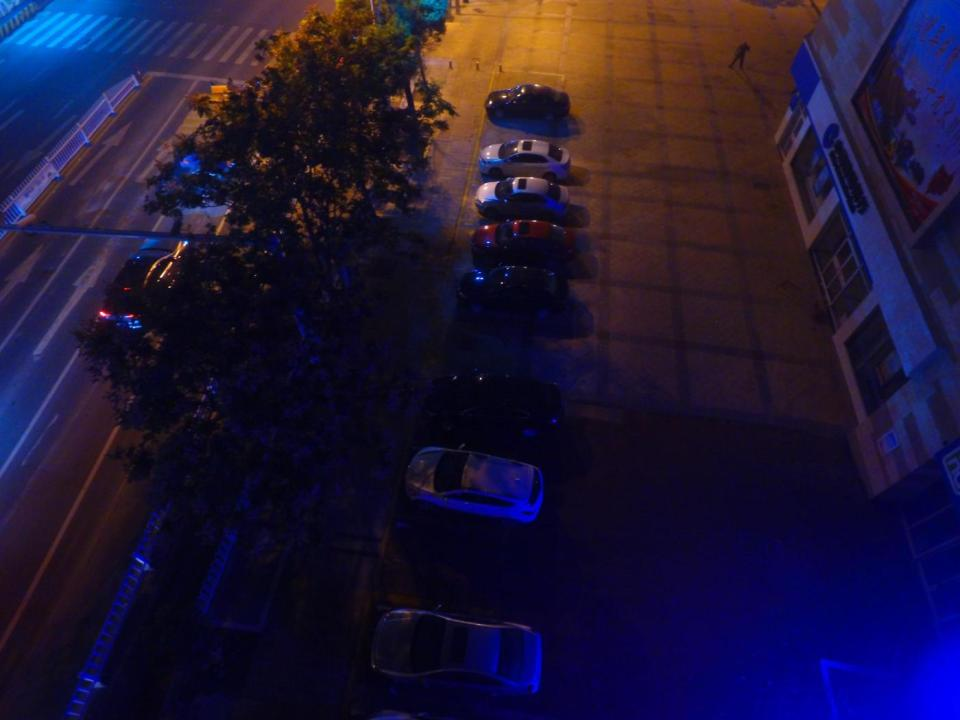car: (363, 608, 544, 698), (400, 445, 548, 525), (415, 370, 570, 436), (91, 231, 188, 336), (454, 262, 564, 320), (468, 217, 576, 260), (474, 176, 570, 219), (476, 138, 570, 179), (484, 83, 571, 122)
